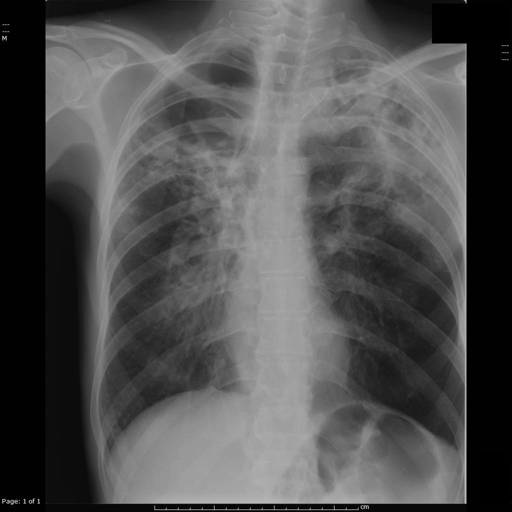TB: (344, 73, 448, 214), (127, 123, 222, 214)
